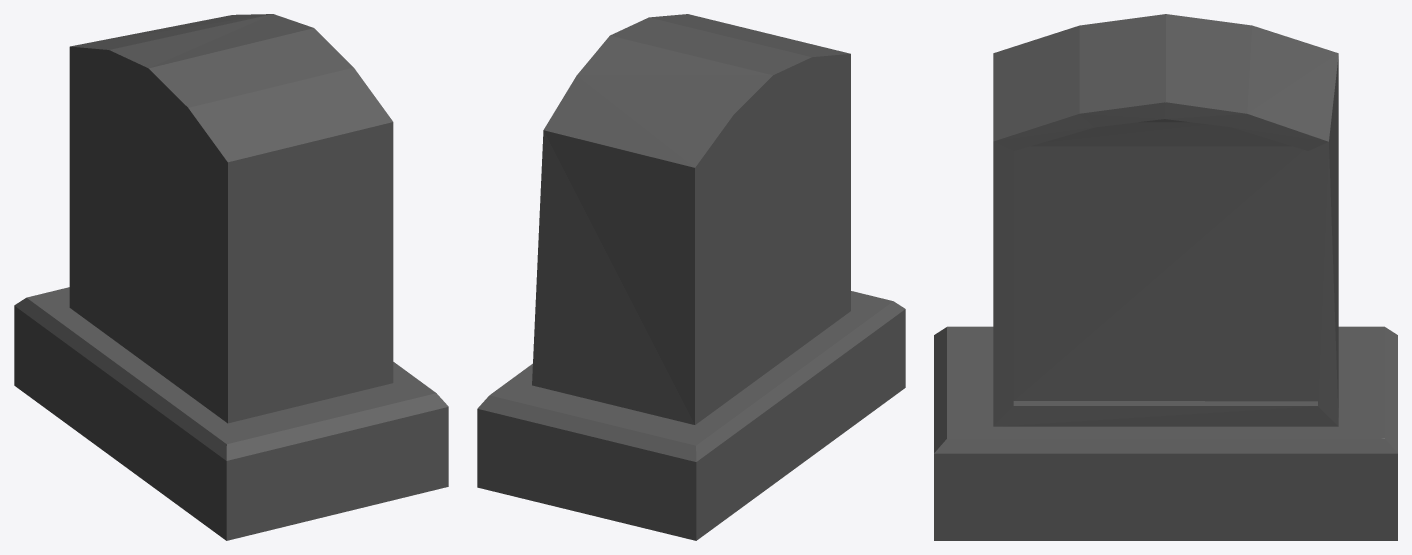
File: Gravestone2.fbx
3 views of the same model, side by side, from view 1: azimuth 30°, elevation 25°; view 2: azimuth 150°, elevation 25°; view 3: azimuth 270°, elevation 25° (orthographic). The views are drawn at different scales.
Parts seen in each view (by area): view 1: Cube; view 2: Cube; view 3: Cube.
Boxes of the visible parts, <box> form: Cube: <box>14,14,448,540</box>; Cube: <box>477,14,905,540</box>; Cube: <box>934,14,1397,540</box>.
Size of the model in its own units: 200 by 334 by 331.
